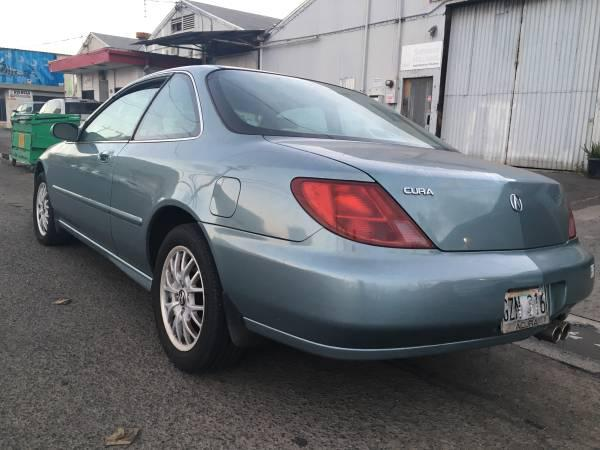acura: (17, 62, 600, 405)
